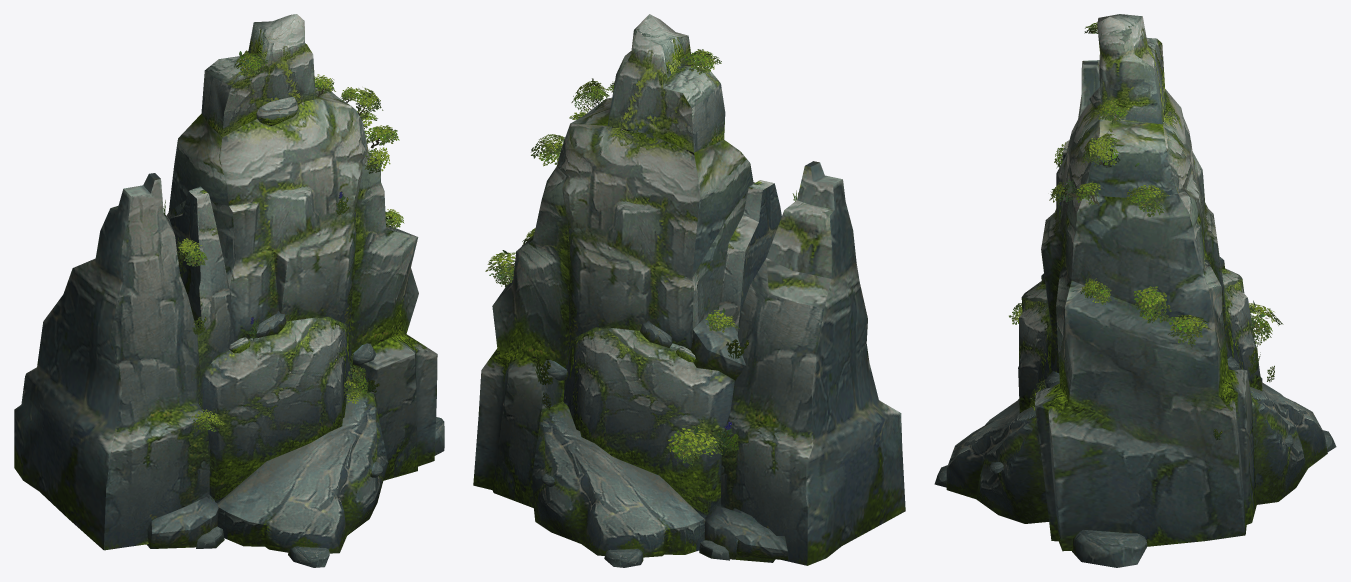
Rendered from jd_shanti_6.FBX.
The picture shows the model from 3 angles, left to right: view 1: azimuth 30°, elevation 25°; view 2: azimuth 150°, elevation 25°; view 3: azimuth 270°, elevation 25°; orthographic projection. The views are drawn at different scales.
Parts seen in each view (by area): view 1: jd_shanti_6; view 2: jd_shanti_6; view 3: jd_shanti_6.
Boxes of the visible parts, x1,y1,x2,y2 form: jd_shanti_6: (14, 14, 444, 567); jd_shanti_6: (473, 14, 905, 567); jd_shanti_6: (934, 14, 1336, 567).
Bounding box in the file's own units: 10600 × 12821 × 9409.
